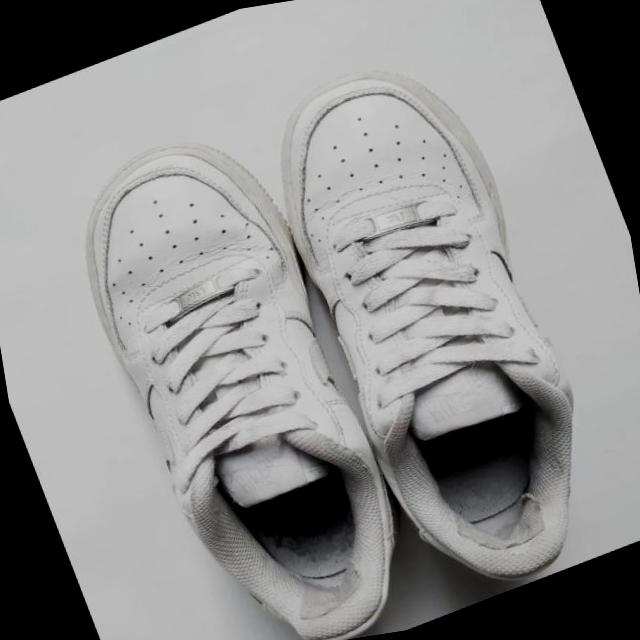nike_fake_airforce: (228, 14, 640, 632), (28, 89, 438, 640)
